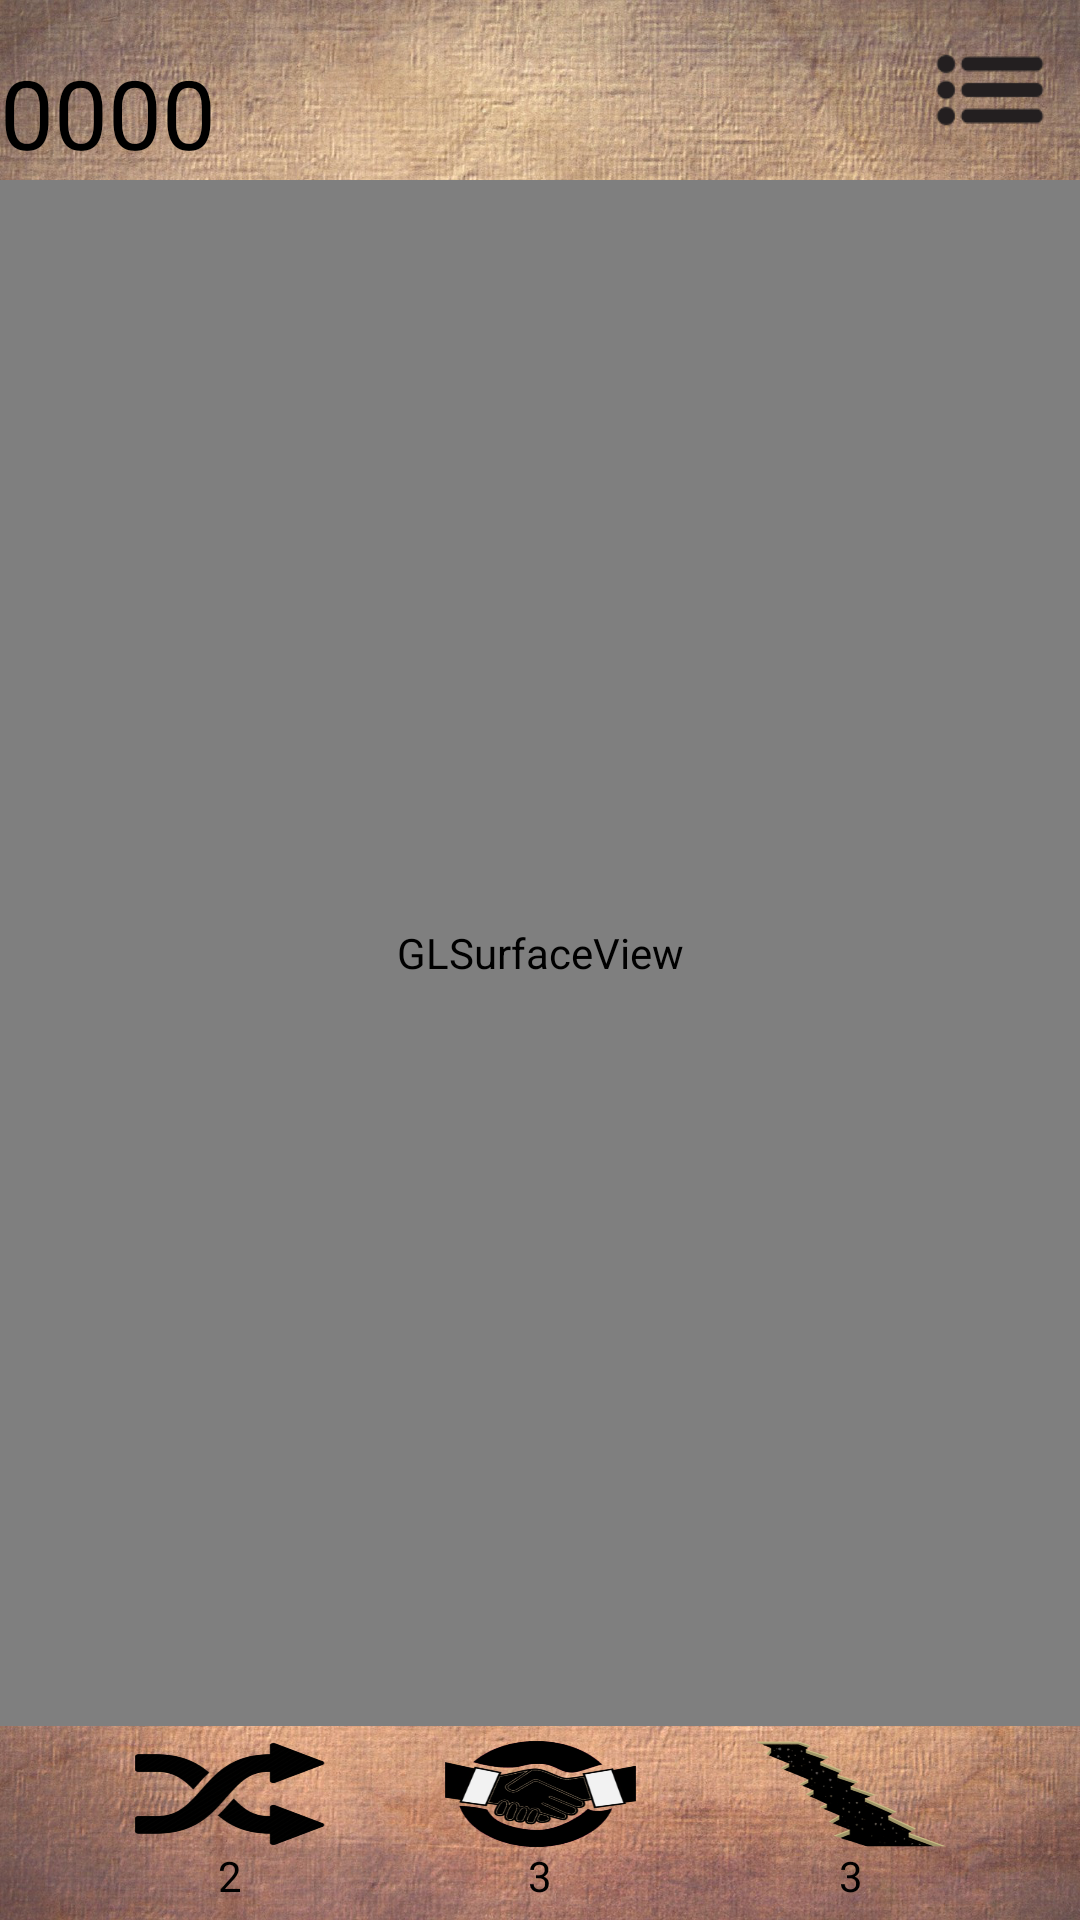

Screen size 1080w x 1920h. Icon name, then its center in pixels as (x,y):
skill chasm: (851,1794)
skill friends: (540,1794)
skill shuffle: (230,1794)
